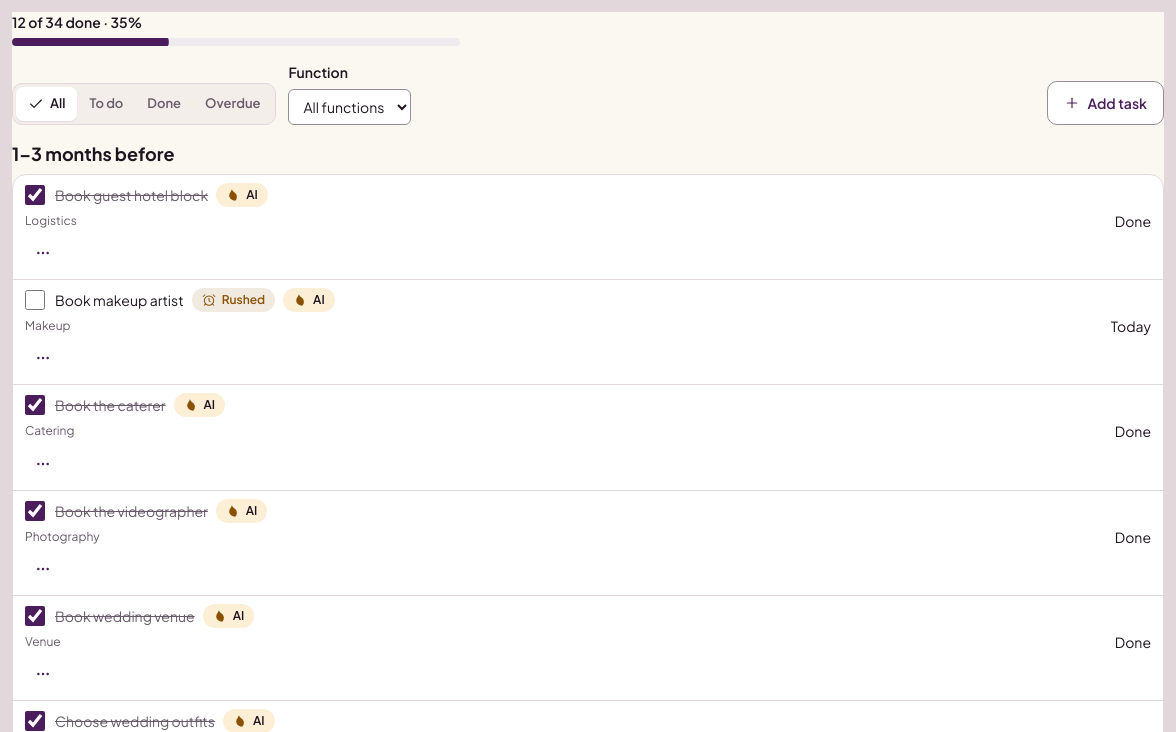
it: failed manual edits are reported (spec 3.4, QA-02 regression) › a version conflict on a task checkbox shows the conflict toast
What coordinates should you click on to do the following:
click the checkbox labelled "Book guest hotel block"
I would click on:
 (35, 195)
Its box is top-left (25, 185), bottom-right (45, 205).
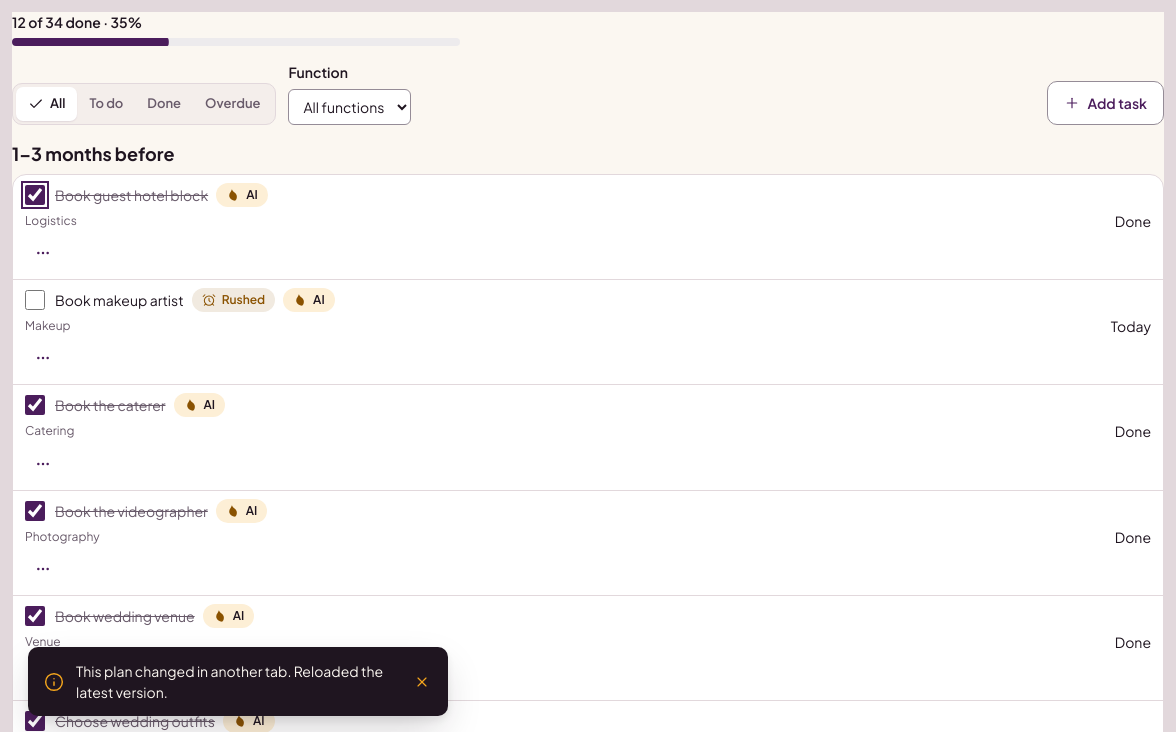
Check: the text "This plan changed in another tab. Reloaded the latest version." is shown, box top-left (76, 653), bottom-right (390, 710)
